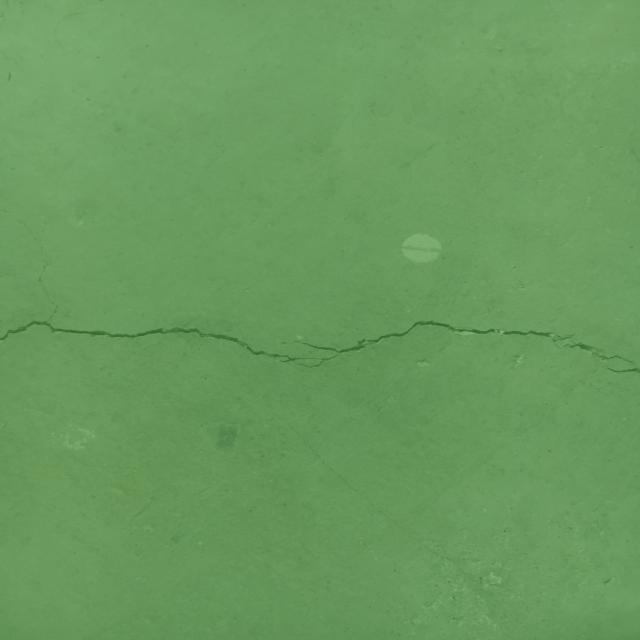crack: (0, 265, 575, 367), (555, 340, 640, 374)
